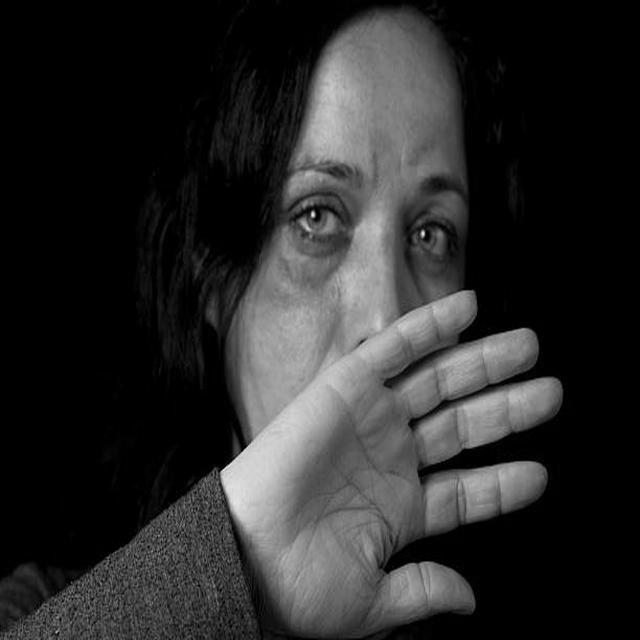Fear: (225, 9, 470, 535)
